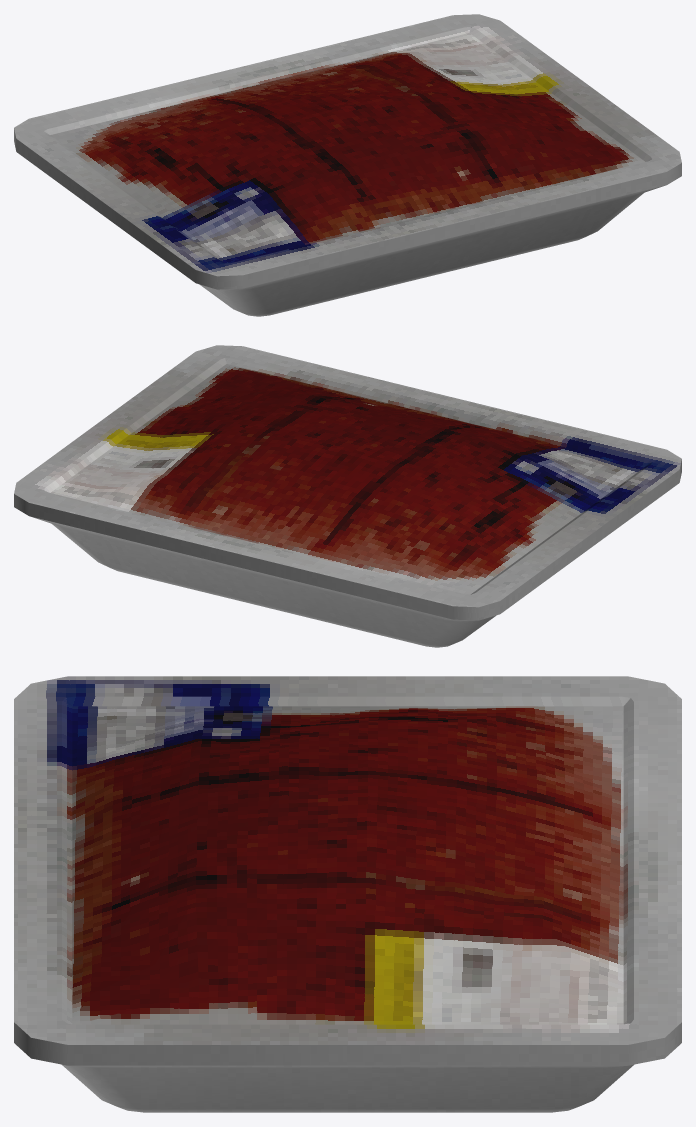
File: meat_1.glb
3 views of the same model, one above another, from view 1: azimuth 30°, elevation 25°; view 2: azimuth 150°, elevation 25°; view 3: azimuth 270°, elevation 25° (orthographic). The views are drawn at different scales.
Parts seen in each view (by area): view 1: meat_1; view 2: meat_1; view 3: meat_1.
Boxes of the visible parts, left/top/right/bottom form: meat_1: left=14, top=14, right=681, bottom=316; meat_1: left=14, top=345, right=681, bottom=647; meat_1: left=14, top=676, right=681, bottom=1112.
Bounding box in the file's own units: 0.342 × 0.0752 × 0.2619.
Materials: 1 (1 with a texture image).
